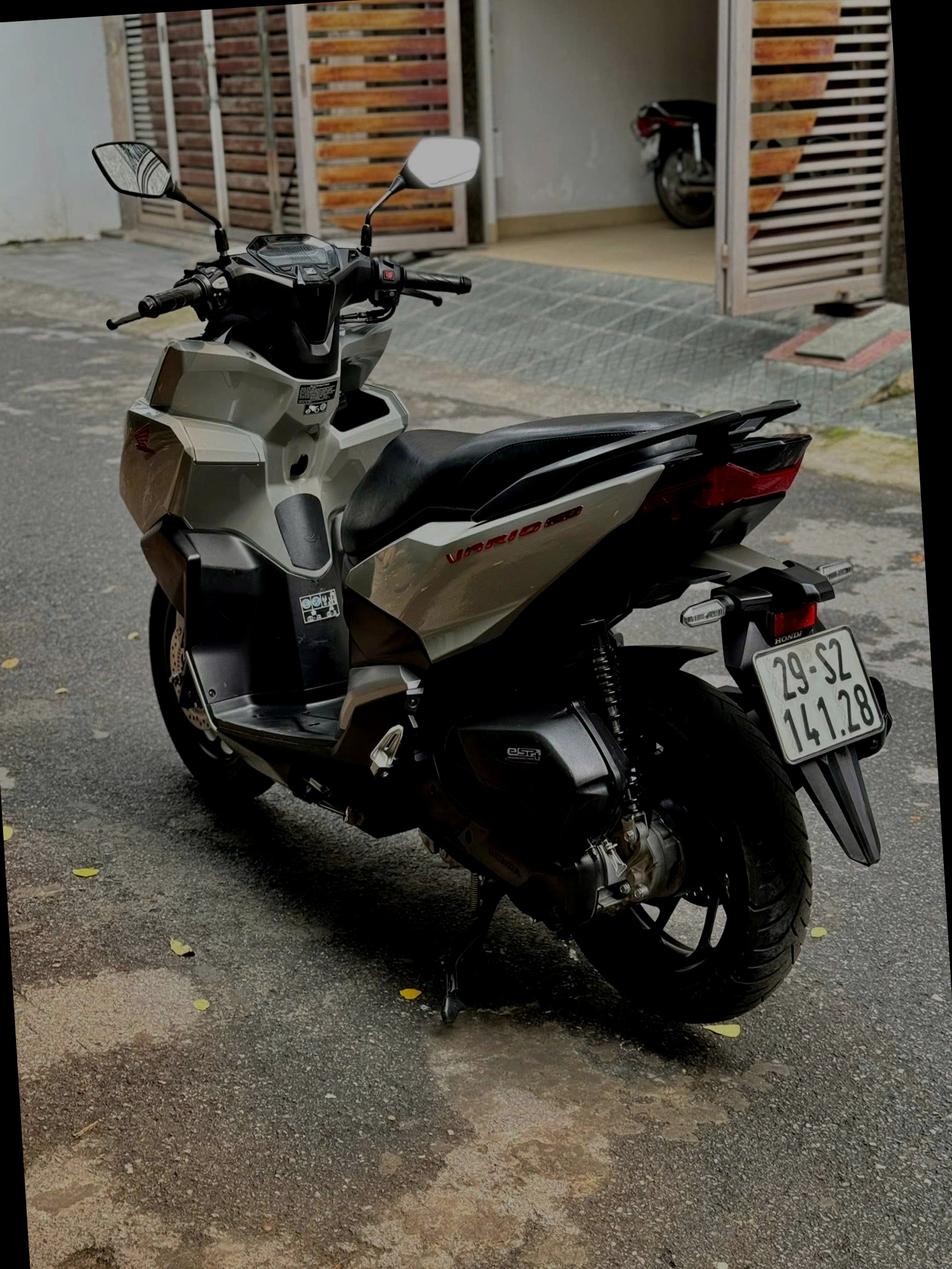Bien-so: (761, 628, 894, 760)
